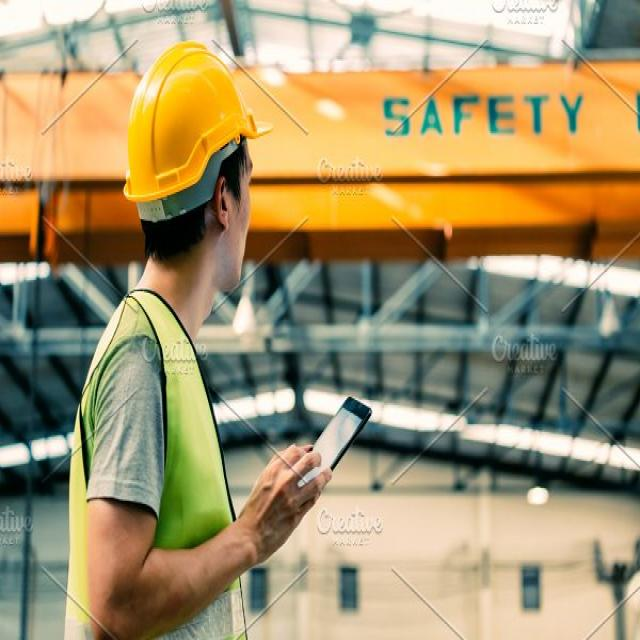Reflective-Jacket: (61, 283, 256, 634)
Safety-Helmet: (119, 38, 271, 208)
